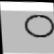no answer: (23, 13, 54, 39)
